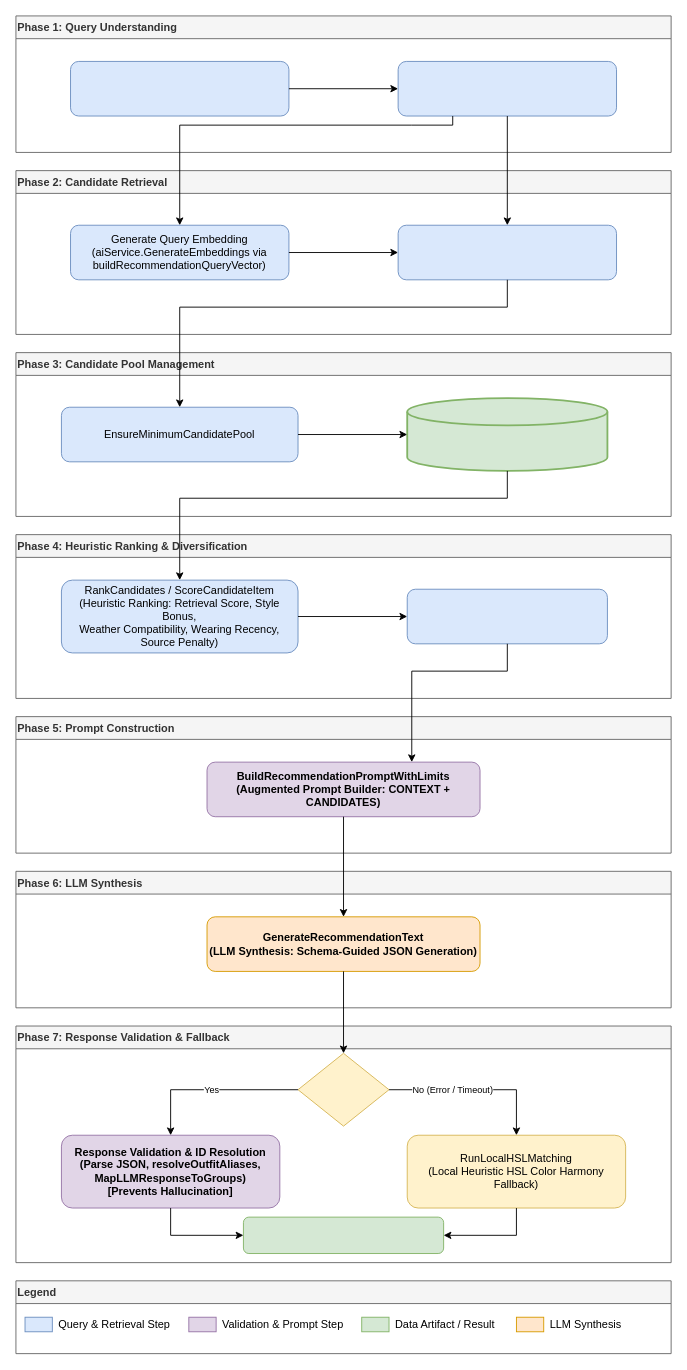
Image size: 687x1370. Some labels were removed from this diagram. The centre of each missing label's shape, as x and y in pixels:
"buildRecommendationRetrievalQuery (LLM or Local Rules Query Expansion)" goes at point (507, 88).
"Candidate Pool (rankingCandidates)" goes at point (507, 434).
"DiversifyRankedCandidates (Category Soft Cap Diversification)" goes at point (506, 616).
"dto.RecommendedOutfitRes" goes at point (343, 1235).
"GetHybridCandidates (Vector Search + Lexical Search + RRF)" goes at point (507, 252).
"Is LLM API Successful?" goes at point (343, 1089).
"nlpParser.Parse (Extract Style, Weather, Color, Occasion)" goes at point (179, 88).
